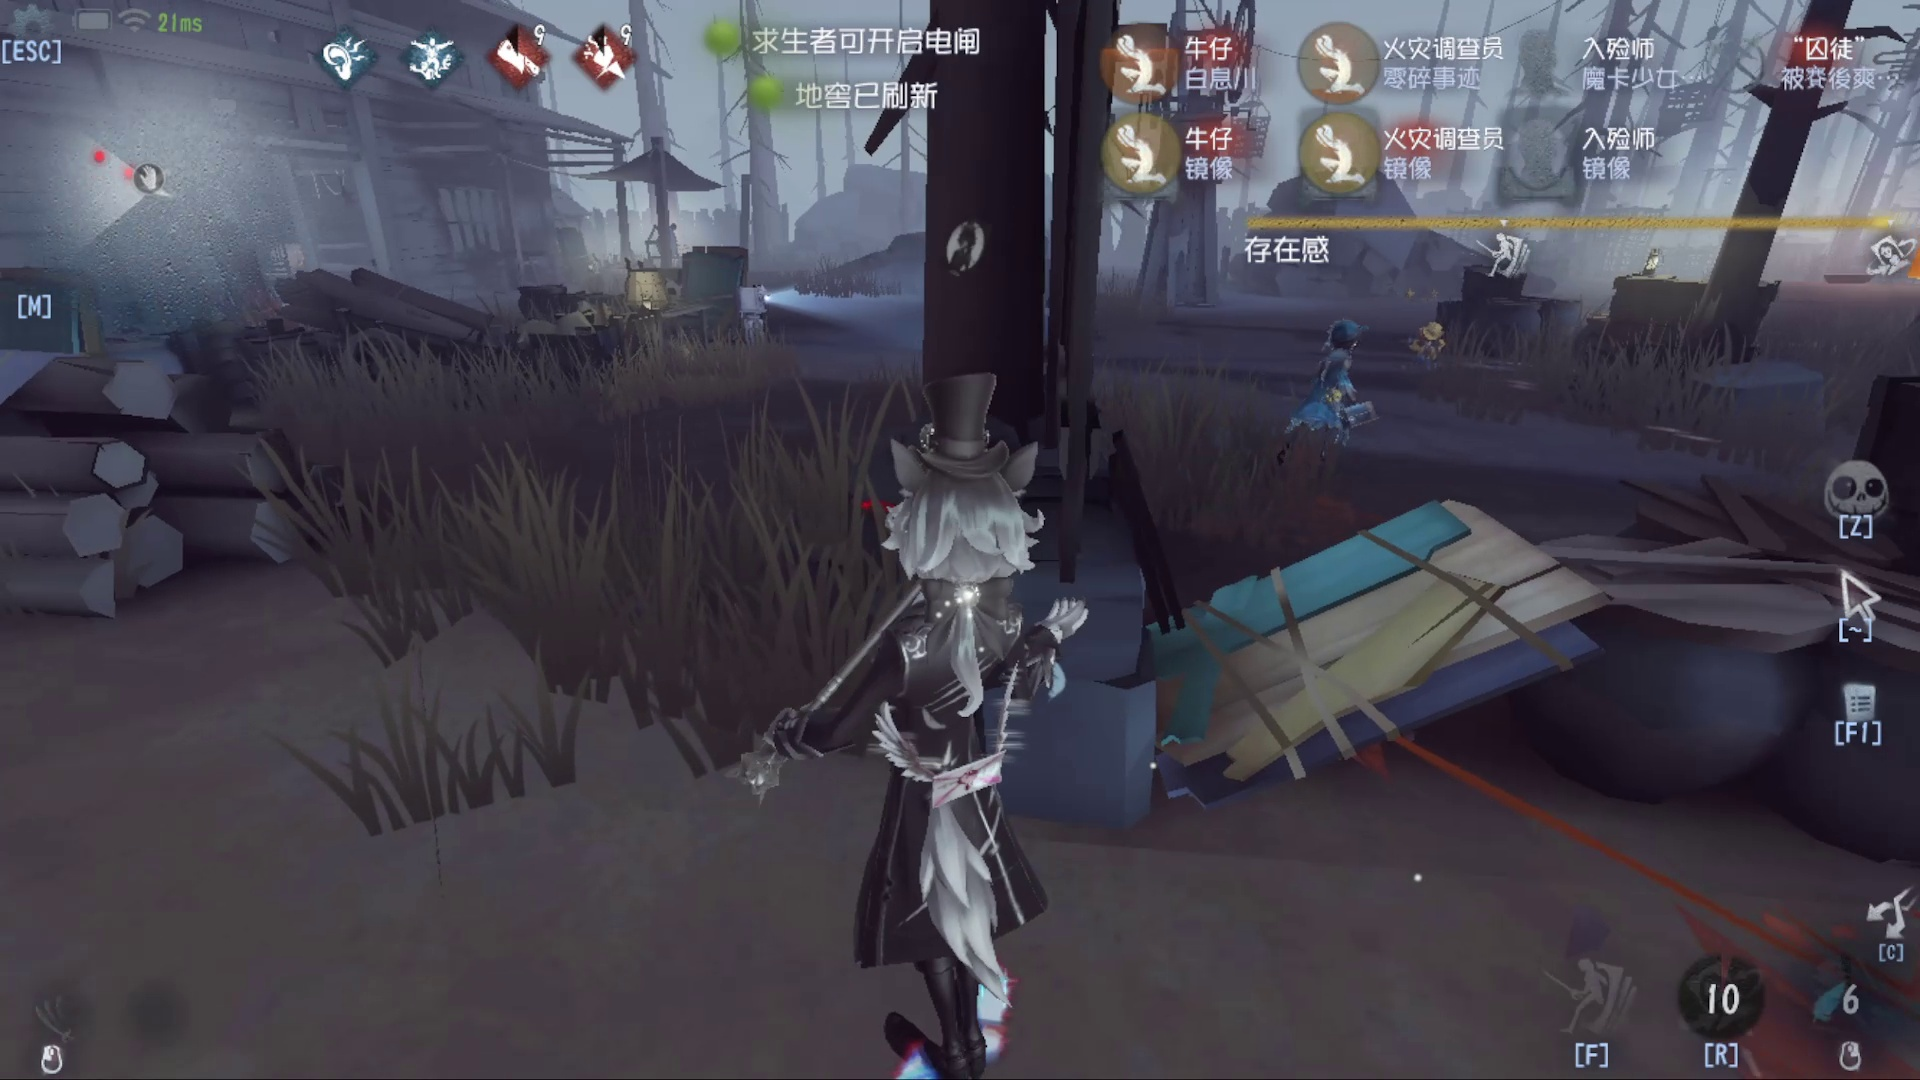木板: (1102, 472, 1540, 790), (621, 222, 782, 353)
求生者: (1262, 301, 1396, 471), (1399, 309, 1451, 385)
